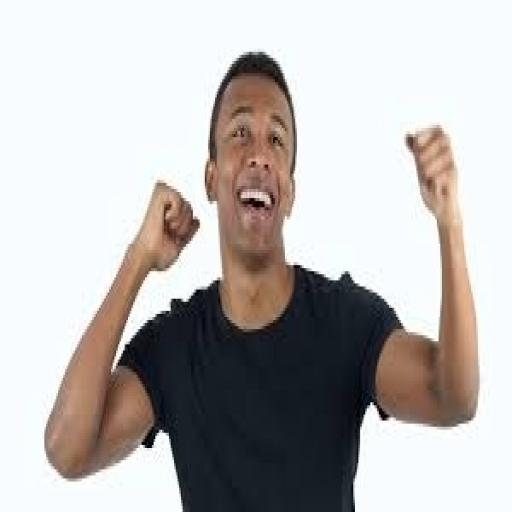dancing: (43, 46, 483, 509)
